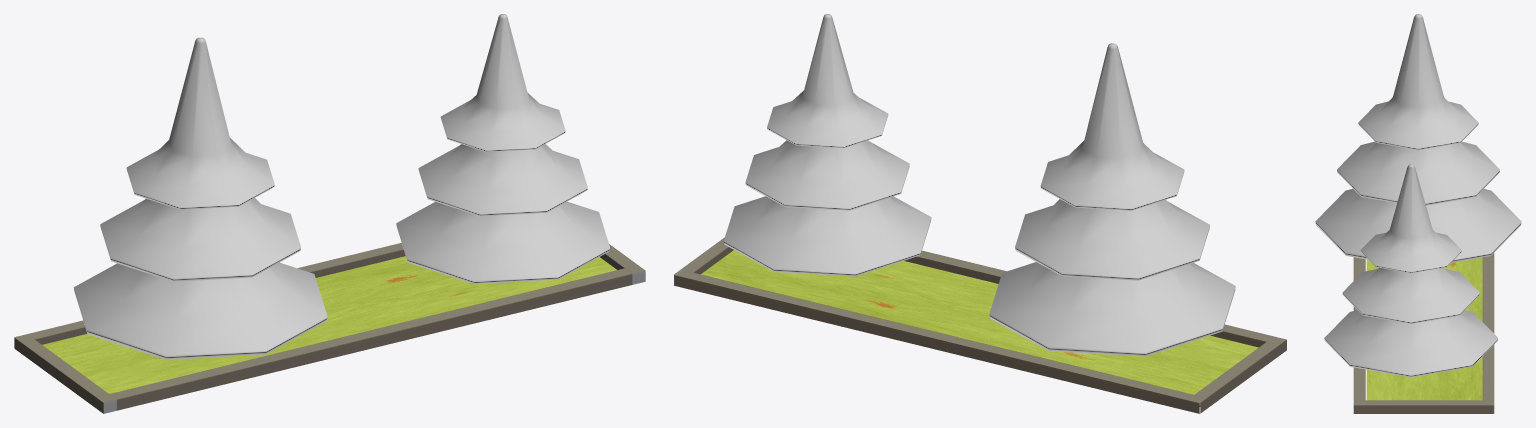
File: boncay_4.fbx
3 views of the same model, side by side, from view 1: azimuth 30°, elevation 25°; view 2: azimuth 150°, elevation 25°; view 3: azimuth 270°, elevation 25° (orthographic). The views are drawn at different scales.
Parts seen in each view (by area): view 1: boncay_4; view 2: boncay_4; view 3: boncay_4.
Boxes of the visible parts, box(x1,y1,x2,y2) form: boncay_4: box(14, 14, 645, 413); boncay_4: box(674, 14, 1286, 413); boncay_4: box(1315, 14, 1521, 413).
Size of the model in its own units: 1410 by 805 by 592.
